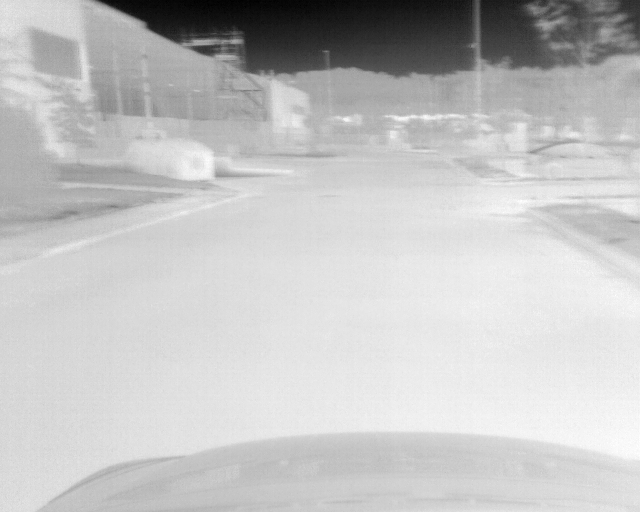car: (525, 140, 640, 181)
